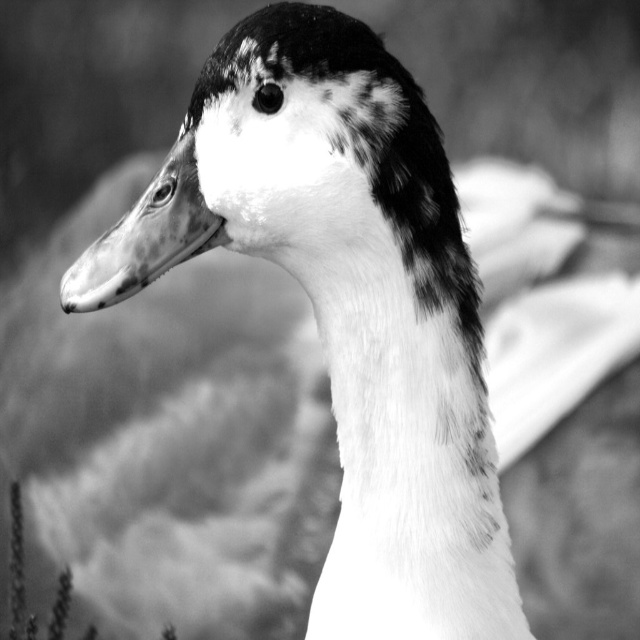Duck: (56, 12, 550, 638)
